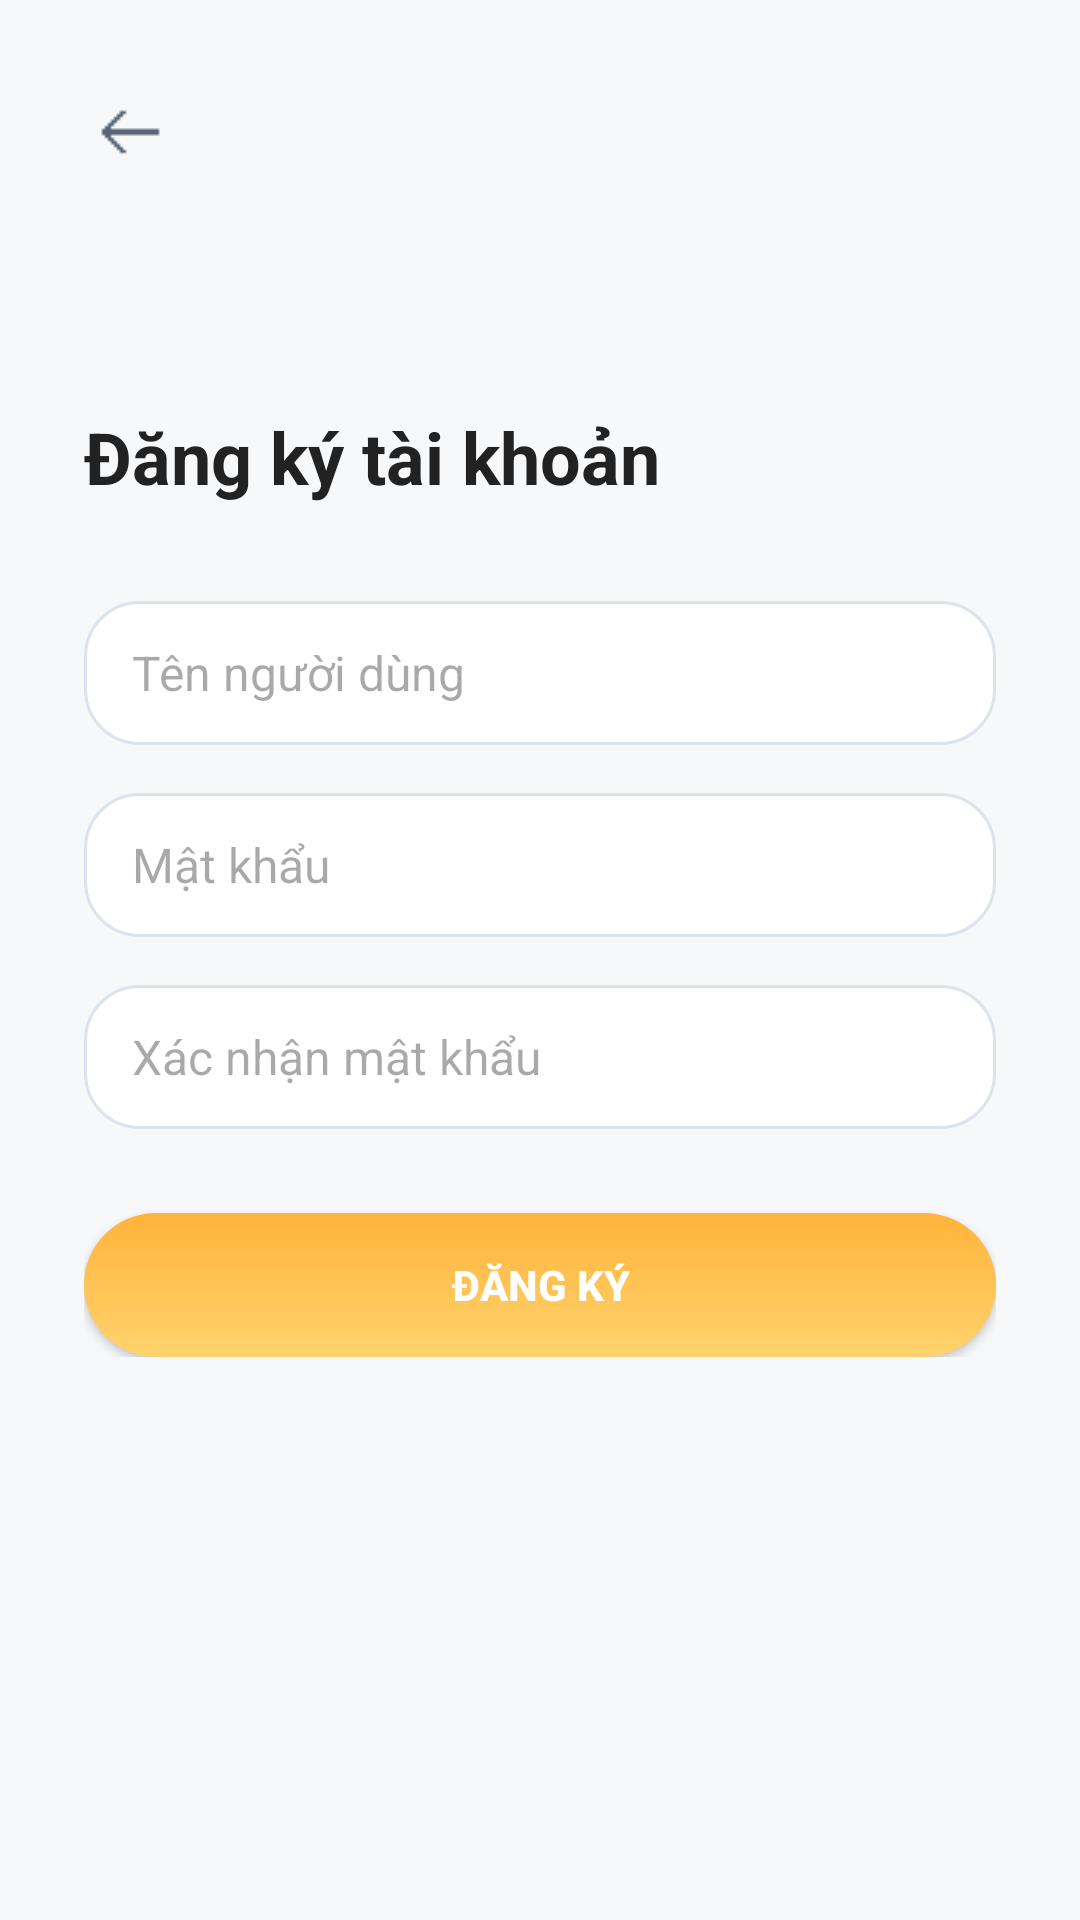

Where to tap for icons on this 1080×1920 app screen, as point (x, y):
arrow back: point (130, 132)
